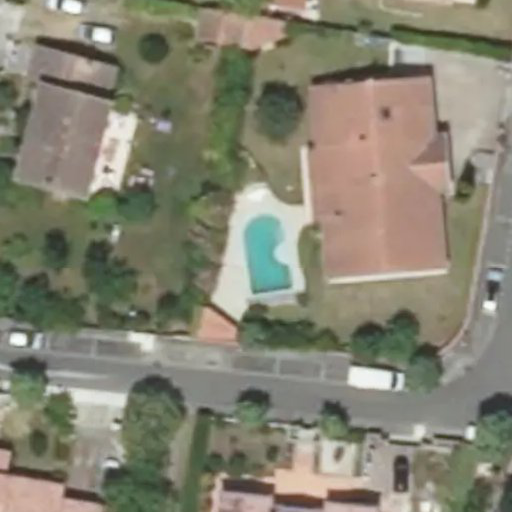pool: (228, 202, 281, 280)
